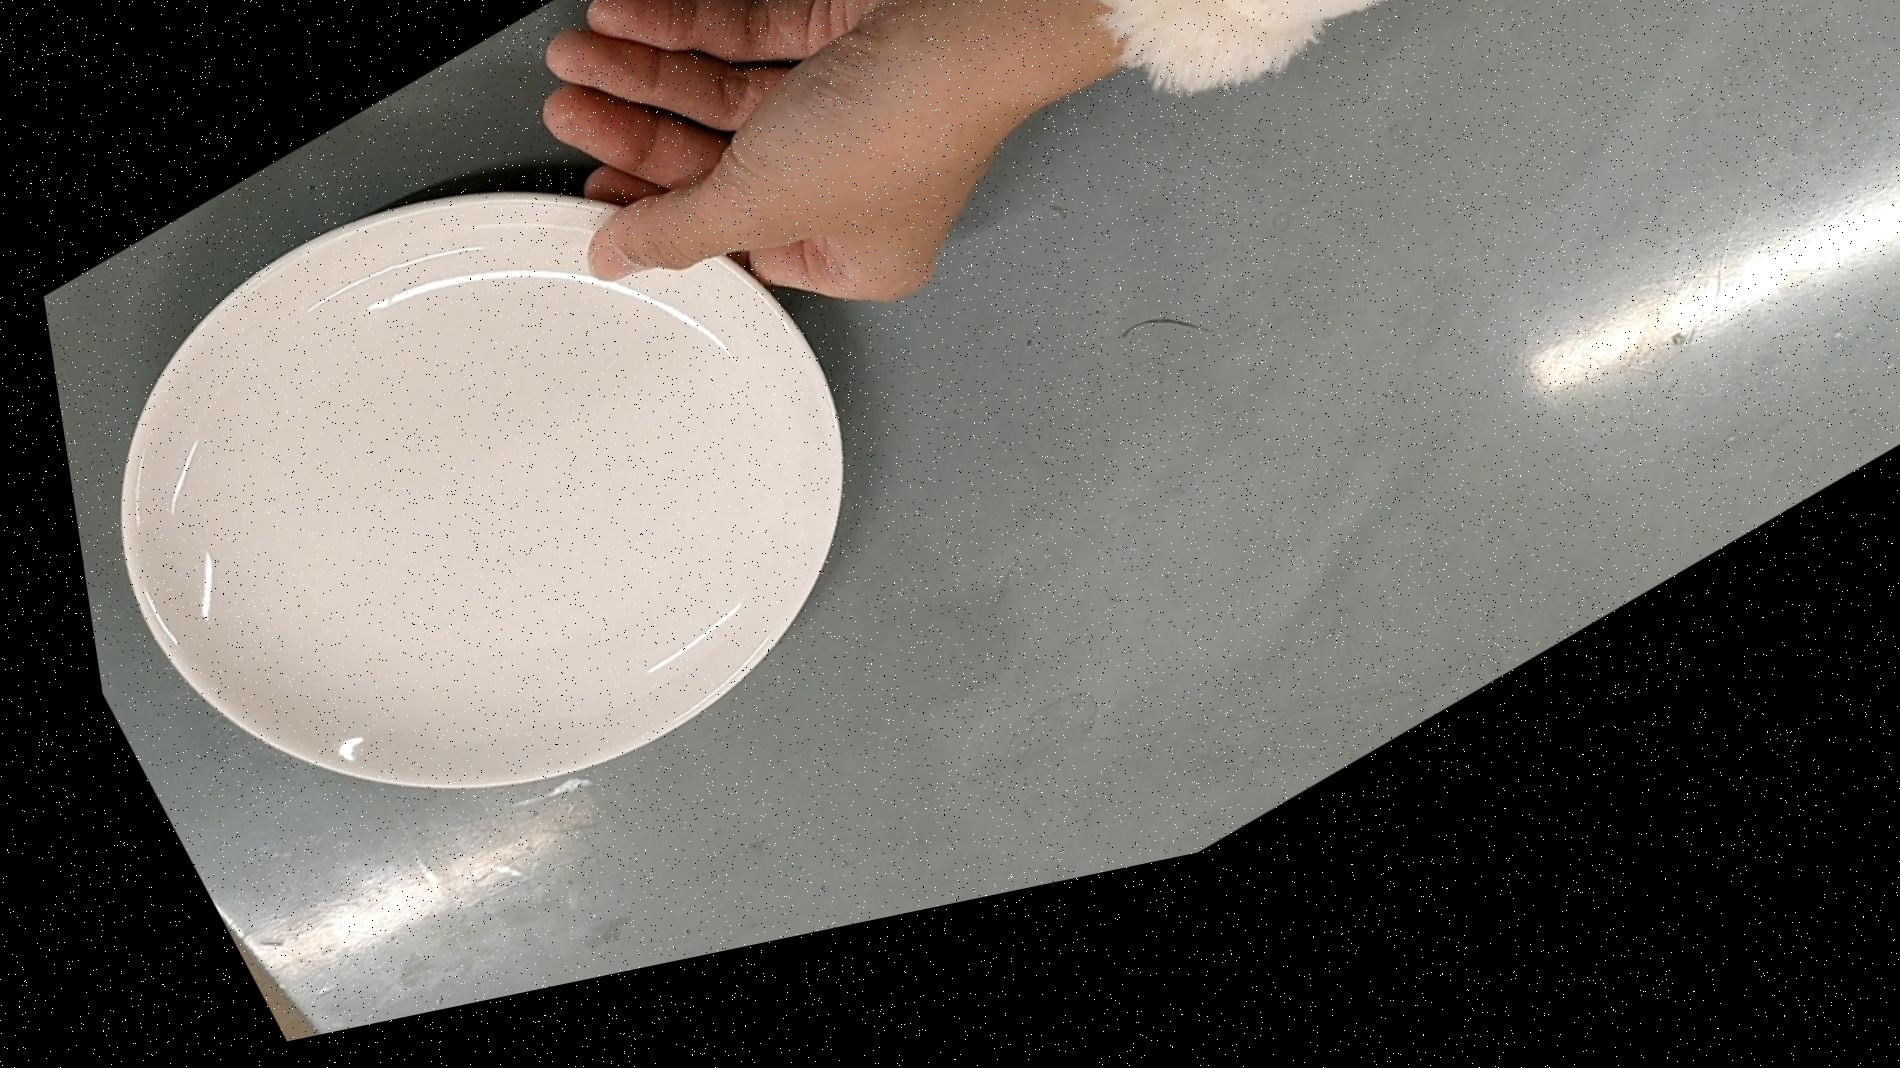plate: (20, 33, 937, 975)
